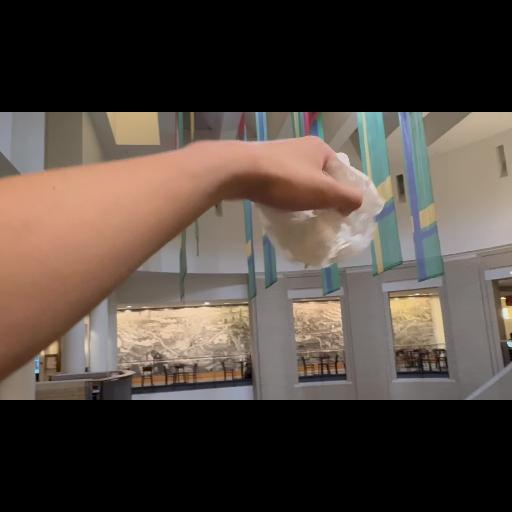napkin: (250, 150, 388, 272)
